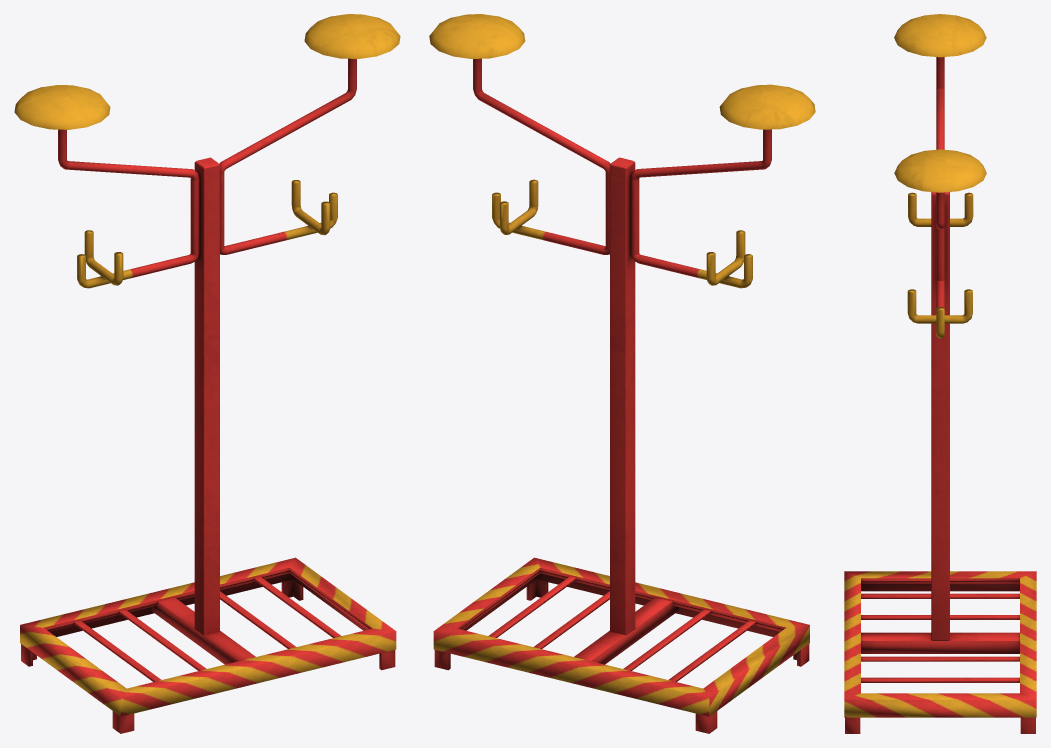
File: kleiderhakenstaender_halle.fbx
The picture shows the model from 3 angles, left to right: view 1: azimuth 30°, elevation 25°; view 2: azimuth 150°, elevation 25°; view 3: azimuth 270°, elevation 25°; orthographic projection. The views are drawn at different scales.
Parts seen in each view (by area): view 1: Mesh; view 2: Mesh; view 3: Mesh.
Part boxes in pixels (x1,y1,x2,y2): Mesh: (14, 14, 400, 733); Mesh: (429, 14, 815, 733); Mesh: (844, 14, 1036, 733).
Bounding box in the file's own units: 125 × 193 × 58.18.
